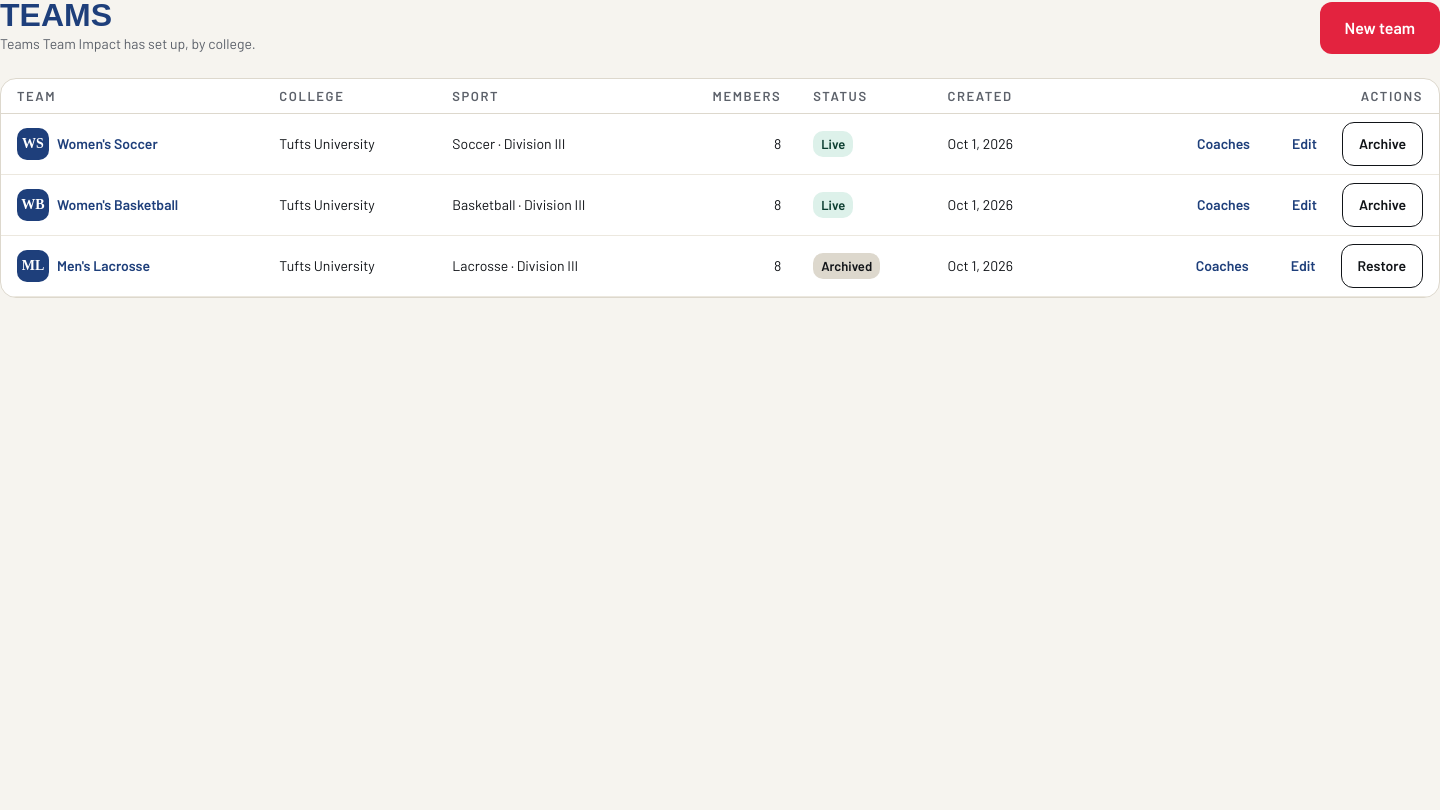
staff teams page: editing a team › sends nothing when nothing changed, or when only the colour’s case did
This screenshot has width=1440, height=810.
Click the button with aria-label "Edit Women's Soccer".
click(1304, 144)  # box 1275,122 -> 1334,166
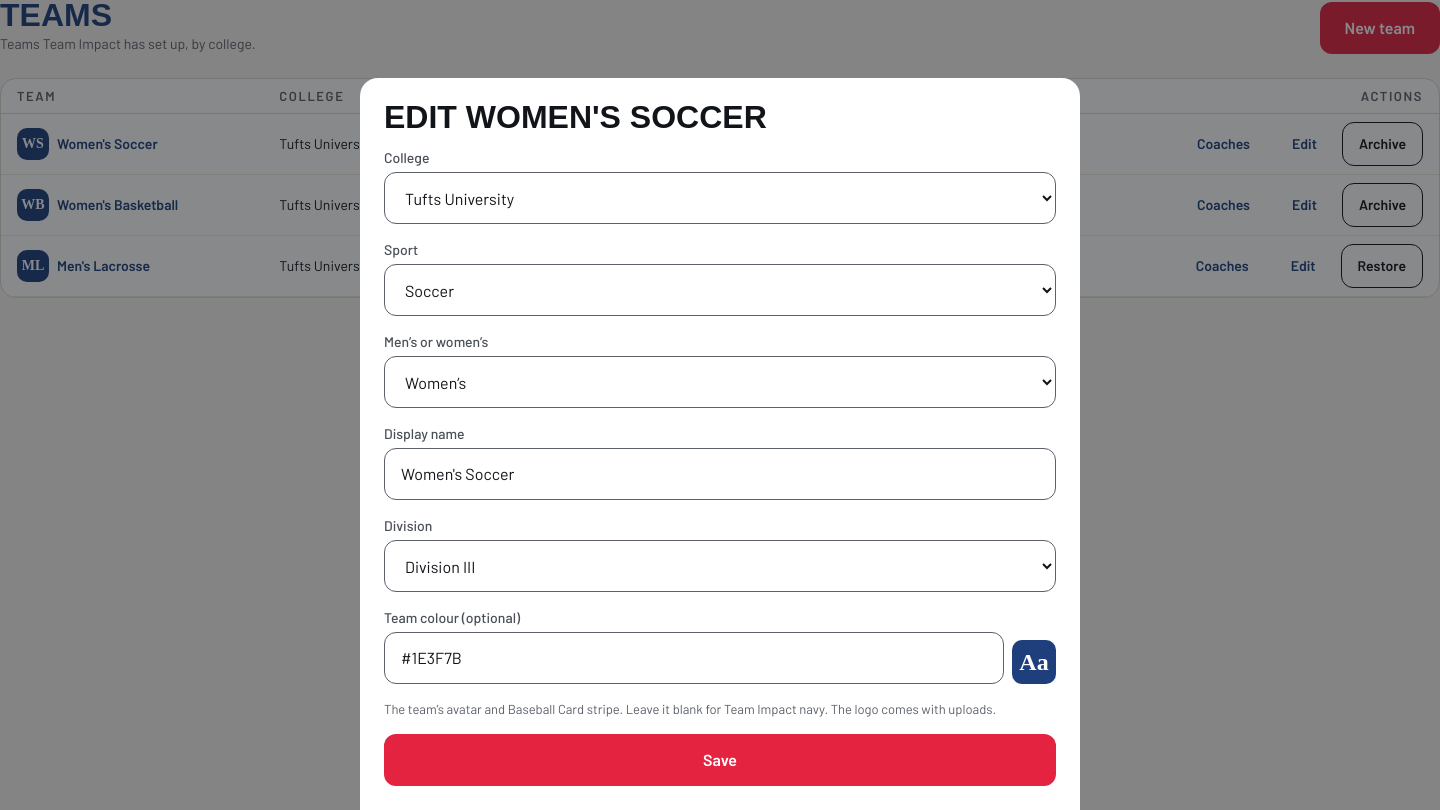
Now the dropdown labelled "College" is shown, box 384,172 -> 1056,224
Type "#1e3f7b" into the field labelled "Team colour (optional)".
click(694, 658); type("#1e3f7b")  # box 384,632 -> 1004,684
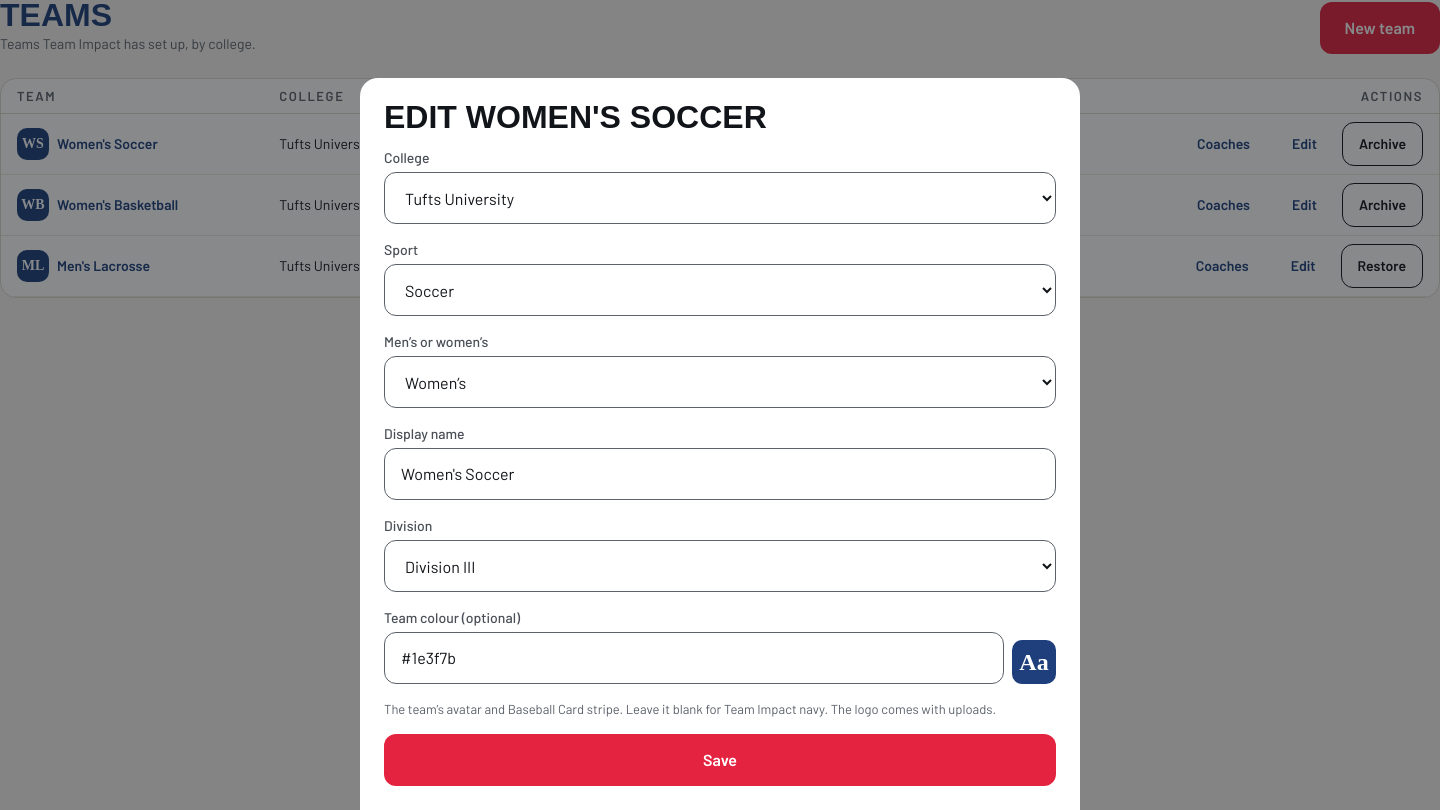
Click the button "Save".
click(720, 760)  # box 384,734 -> 1056,786
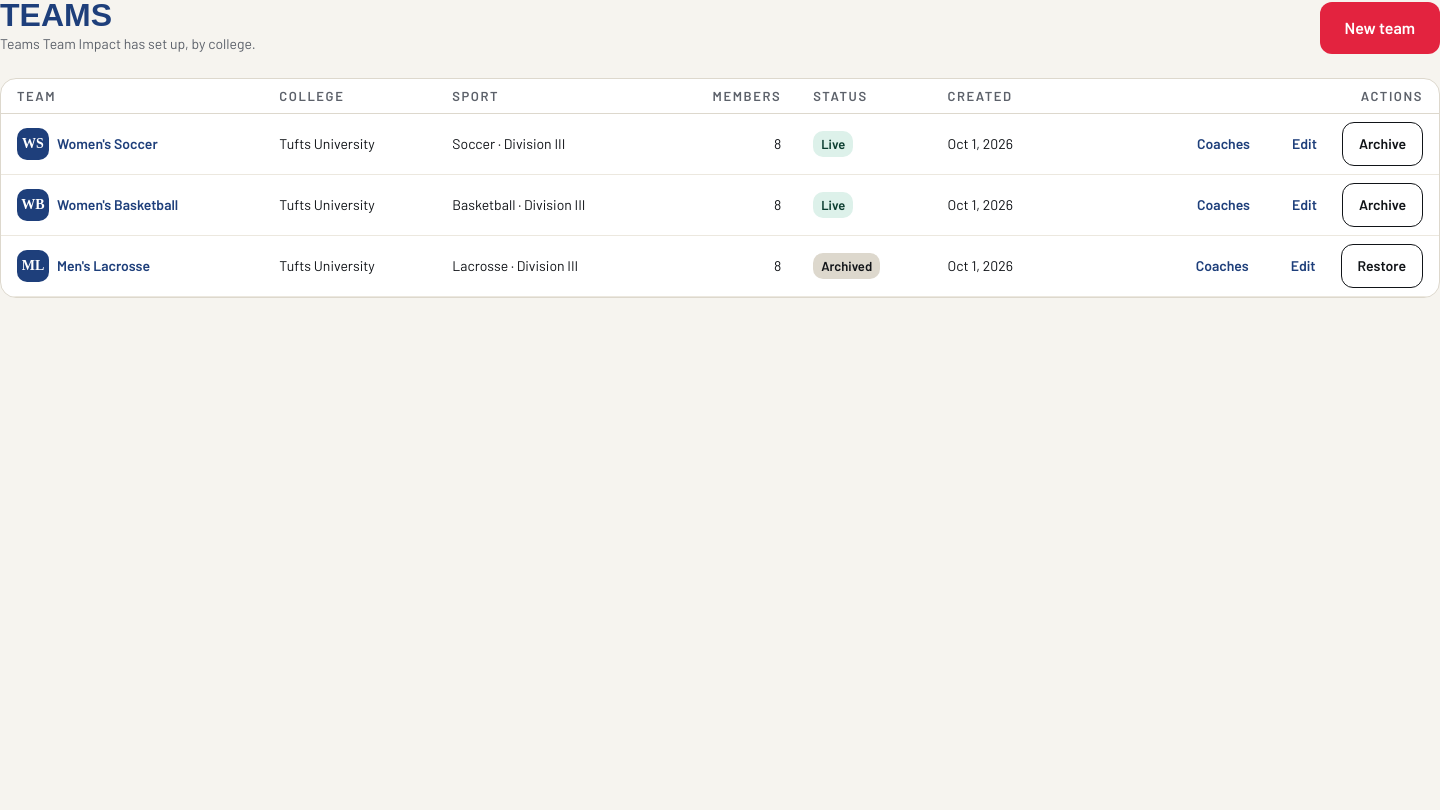
Now the dialog is gone
